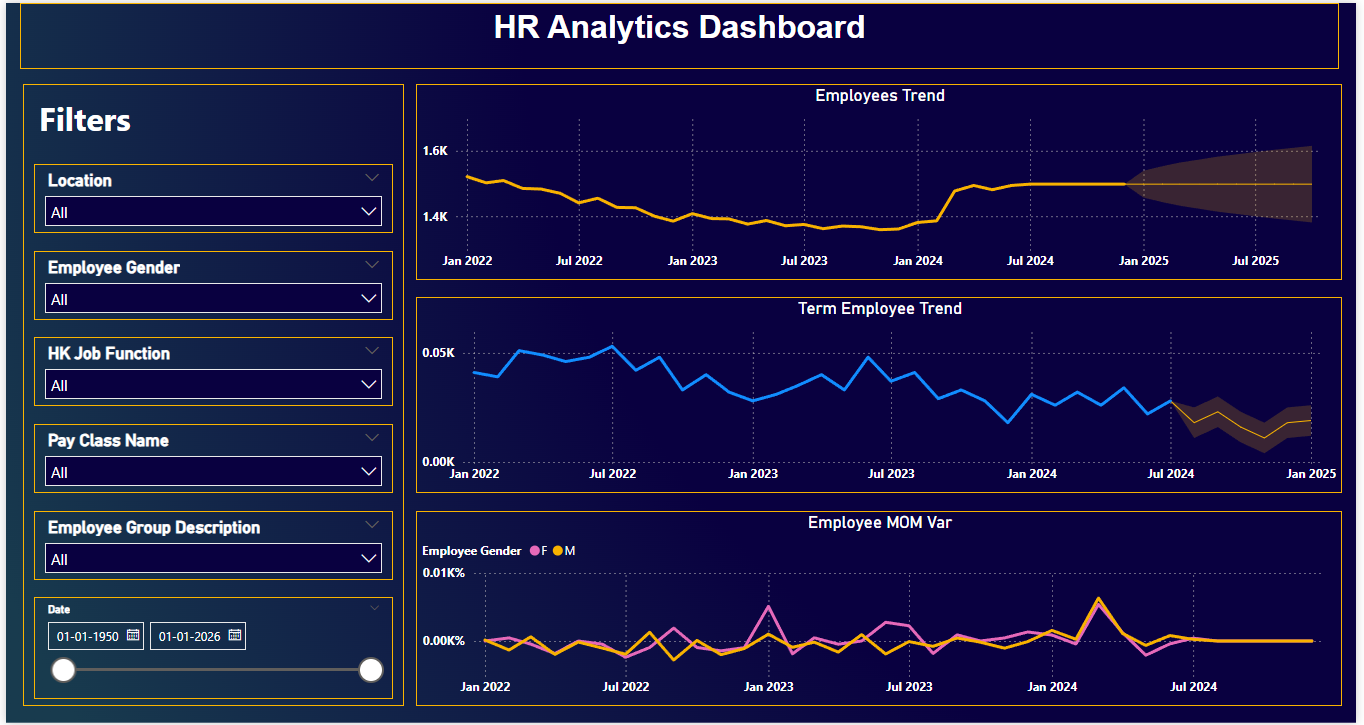

This screenshot's page, from the dashboard's own definition file:
{"tool":"powerbi","page":{"name":"Insights","canvas":[1350,720],"ordinal":1},"visuals":[{"type":"lineChart","title":"Employees Trend","fields":{"Y":["Employees.Exsisting Emp Count"],"Category":["Date Dim.Date.Variation.Date Hierarchy.Year","Date Dim.Date.Variation.Date Hierarchy.Month"]},"box":[410,81.1,925.6,195.6],"z":0},{"type":"lineChart","title":"Term Employee Trend","fields":{"Y":["Employees.Terminated Employee"],"Category":["Employees.Termination Date.Variation.Date Hierarchy.Year","Employees.Termination Date.Variation.Date Hierarchy.Month"]},"box":[410,294.4,925.6,195.6],"z":1000},{"type":"lineChart","title":"Employee MOM Var","fields":{"Y":["Employees.EmpCount MoM % Var"],"Category":["Date Dim.Date.Variation.Date Hierarchy.Year","Date Dim.Date.Variation.Date Hierarchy.Month"],"Series":["Employees.Employee Gender"]},"box":[410,507.8,925.6,195.6],"z":2000},{"type":"shape","box":[16.7,81.1,381.1,622.2],"z":3000},{"type":"slicer","fields":{"Values":["Employees.Location"]},"box":[27.8,161.1,358.9,68.9],"z":4000},{"type":"slicer","fields":{"Values":["Employees.Employee Gender"]},"box":[27.8,247.8,358.9,68.9],"z":5000},{"type":"slicer","fields":{"Values":["Employees.HK Job Function"]},"box":[27.8,334.4,358.9,68.9],"z":6000},{"type":"slicer","fields":{"Values":["Employees.Pay Class Name"]},"box":[27.8,421.1,358.9,68.9],"z":7000},{"type":"slicer","fields":{"Values":["Employees.Employee Group Description"]},"box":[27.8,507.8,358.9,68.9],"z":8000},{"type":"textbox","box":[27.8,87.8,300,55.6],"z":9000},{"type":"slicer","fields":{"Values":["Date Dim.Date"]},"box":[27.8,594.4,358.9,101.1],"z":10000},{"type":"textbox","title":"HR","box":[14,0,1318.9,65.6],"z":11000}]}

Visuals, with their boxes in screenshot pixels (x1, y1, x2, y2), scaled from the page's 1350x720 canvas onto the 1364x725 screenshot:
"Employees Trend" lineChart: [left=414, top=82, right=1349, bottom=279]
"Term Employee Trend" lineChart: [left=414, top=296, right=1349, bottom=493]
"Employee MOM Var" lineChart: [left=414, top=511, right=1349, bottom=708]
shape: [left=17, top=82, right=402, bottom=708]
slicer - Employees.Location: [left=28, top=162, right=391, bottom=232]
slicer - Employees.Employee Gender: [left=28, top=250, right=391, bottom=319]
slicer - Employees.HK Job Function: [left=28, top=337, right=391, bottom=406]
slicer - Employees.Pay Class Name: [left=28, top=424, right=391, bottom=493]
slicer - Employees.Employee Group Description: [left=28, top=511, right=391, bottom=581]
textbox: [left=28, top=88, right=331, bottom=144]
slicer - Date Dim.Date: [left=28, top=599, right=391, bottom=700]
"HR" textbox: [left=14, top=0, right=1347, bottom=66]
